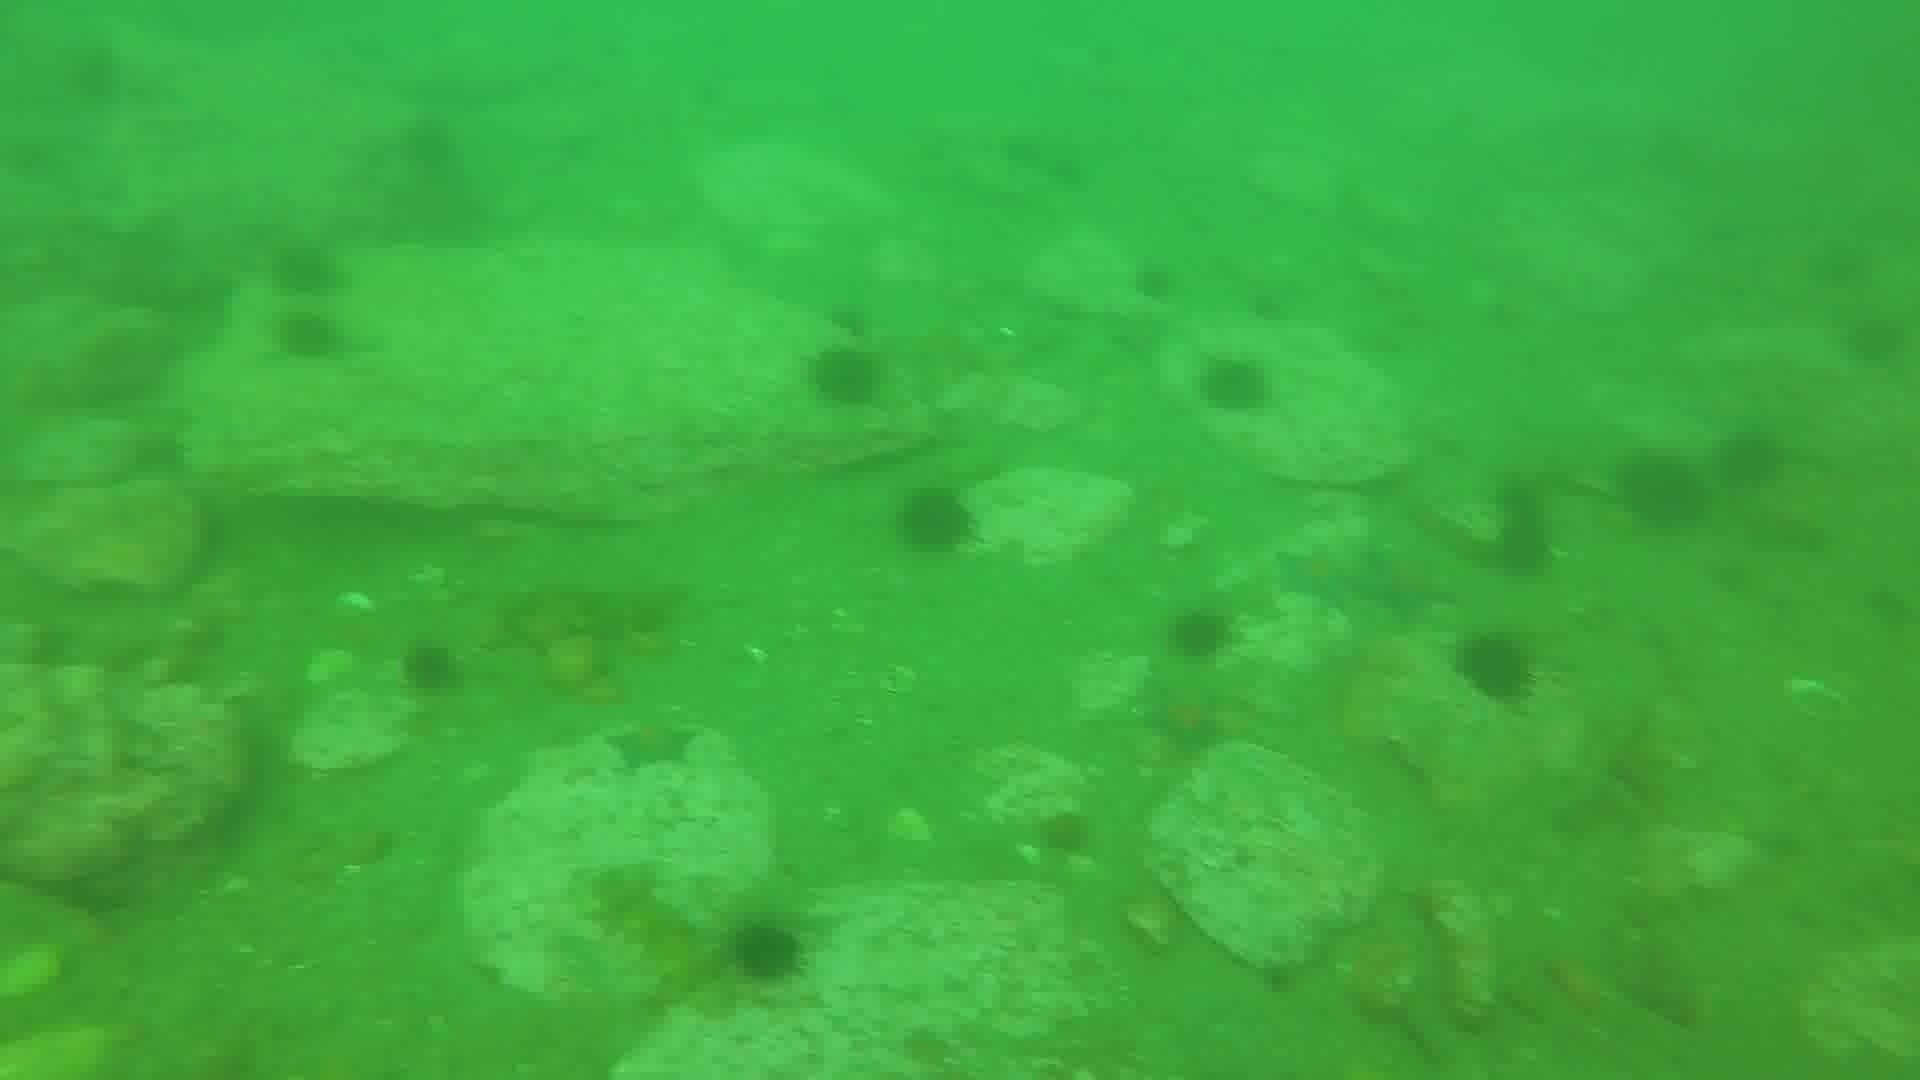echinus: (1611, 447, 1706, 531), (1451, 629, 1539, 708), (891, 483, 978, 559), (724, 914, 811, 989), (804, 342, 889, 413), (1193, 352, 1274, 419), (1712, 426, 1789, 495), (1490, 506, 1560, 582), (265, 237, 342, 301), (1811, 237, 1884, 302), (1837, 309, 1909, 373), (1163, 603, 1238, 665), (396, 636, 465, 700), (272, 307, 345, 367), (1031, 806, 1098, 865), (1244, 276, 1295, 324), (1127, 257, 1179, 305), (1000, 127, 1051, 174), (1039, 150, 1091, 198), (397, 116, 448, 164), (825, 301, 878, 342)
holothurian: (567, 855, 742, 1022), (500, 570, 690, 651)
starfish: (1348, 543, 1456, 625), (1138, 678, 1234, 761), (1271, 542, 1371, 615), (601, 712, 702, 775)
